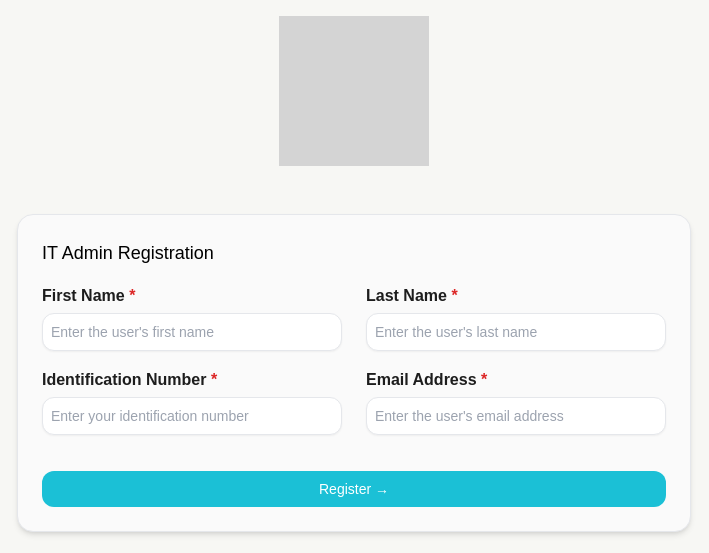
it: email conflict surfaces friendly message
This screenshot has width=709, height=553.
Type "Bob" into the field with placeholder "Enter the user's first name". click: (192, 332)
box: [42,313,342,351]
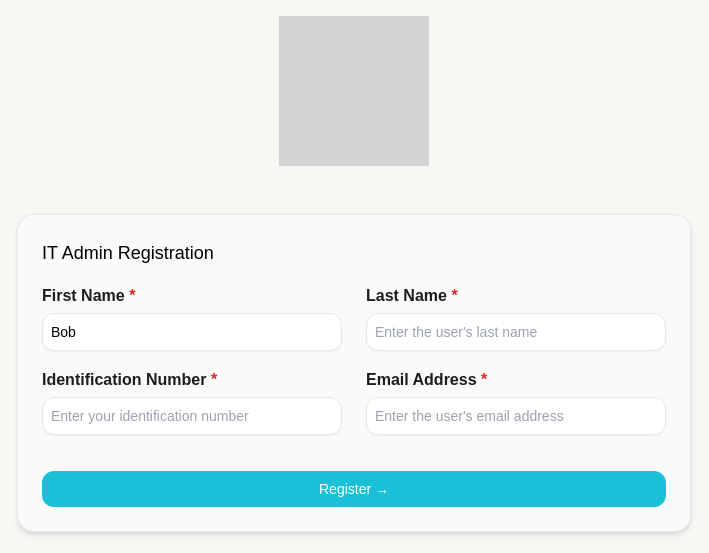
Type "Jones" into the field with placeholder "Enter the user's last name". click: (516, 332)
box: [366,313,666,351]
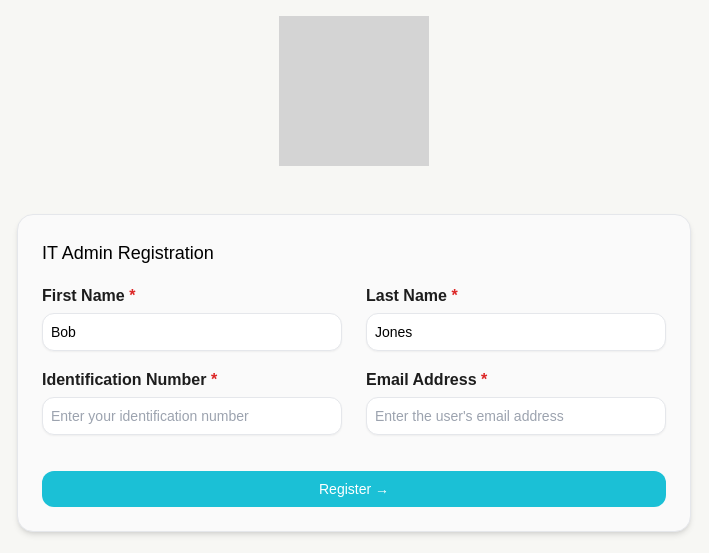
Type "bob@example.com" into the field with placeholder "Enter the user's email address". click: (516, 416)
box: [366,397,666,435]
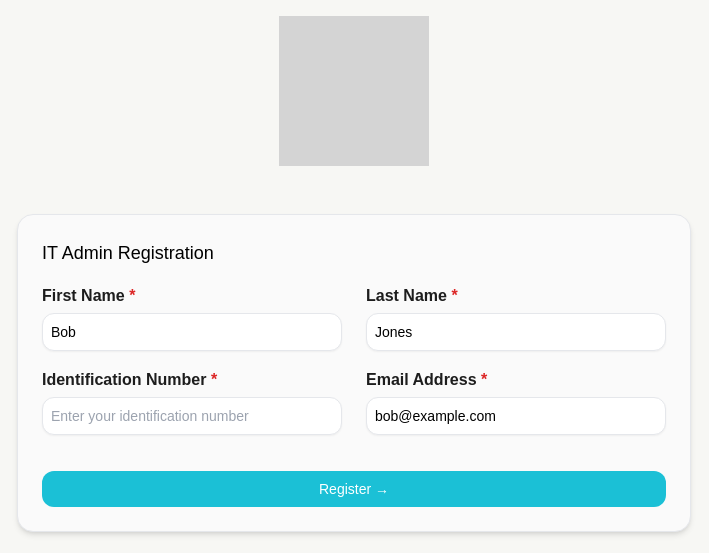
Type "ADMIN-ID-2" into the field with placeholder "Enter your identification number". click: (192, 416)
box: [42,397,342,435]
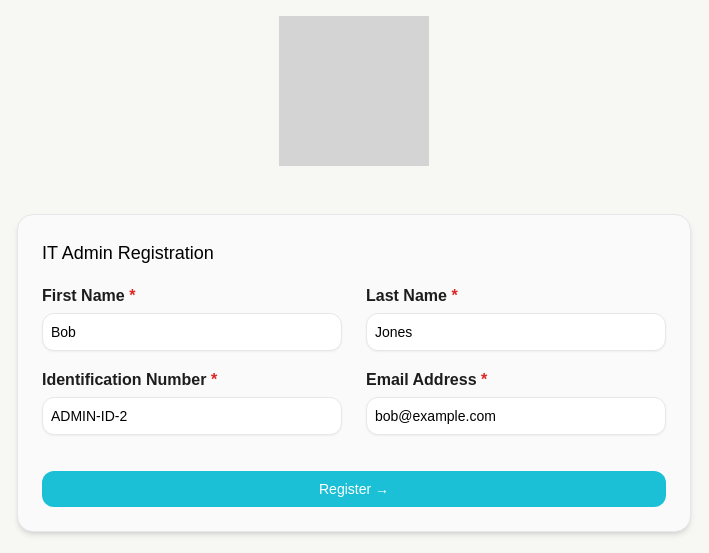
Click the button "Register →". click: (354, 489)
box: [42,471,666,507]
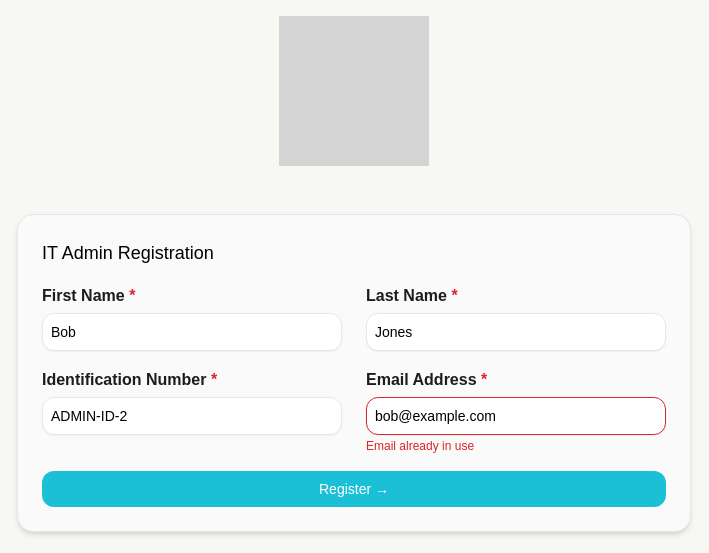
Expected: the text "Email already in use" is shown, [366,439,474,453]
